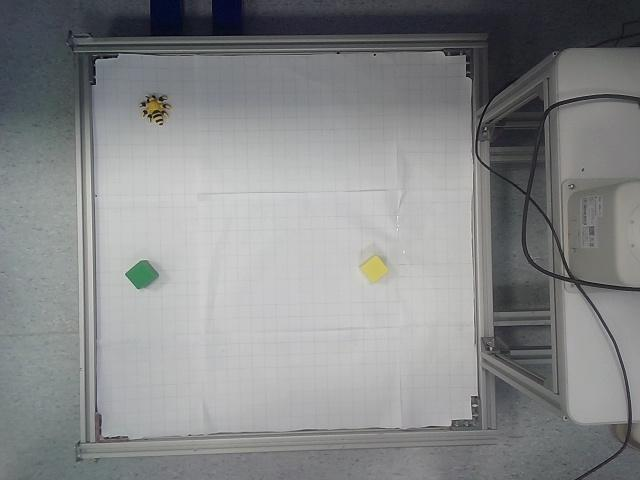frelon: (140, 95, 172, 126)
